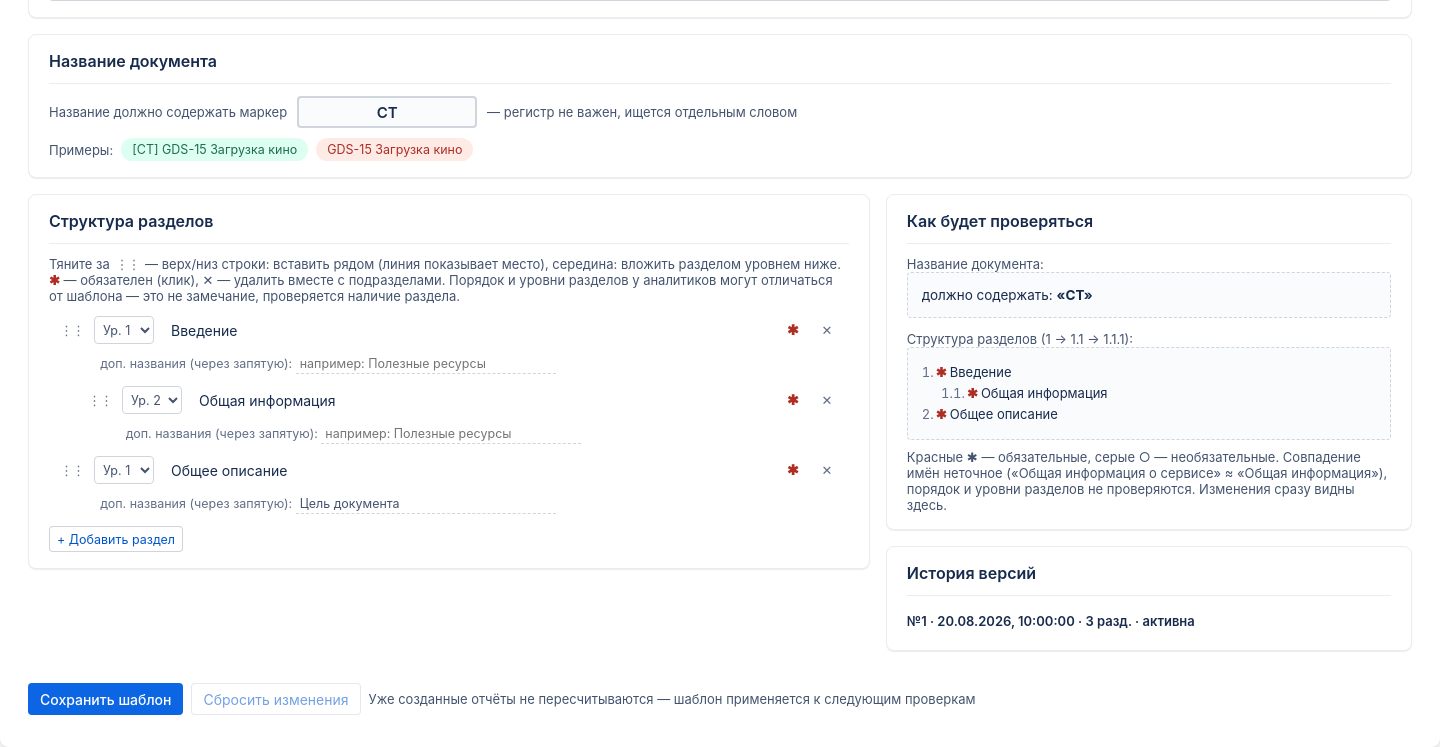
Test case: TemplatePage: редактирование › добавляет новый раздел в конец
(page scrolled)
Expected: the 2nd field showing "Введение" is shown, left=162, top=315, right=772, bottom=345
Click the button "+ Добавить раздел" at (116, 539), box left=49, top=526, right=183, bottom=552
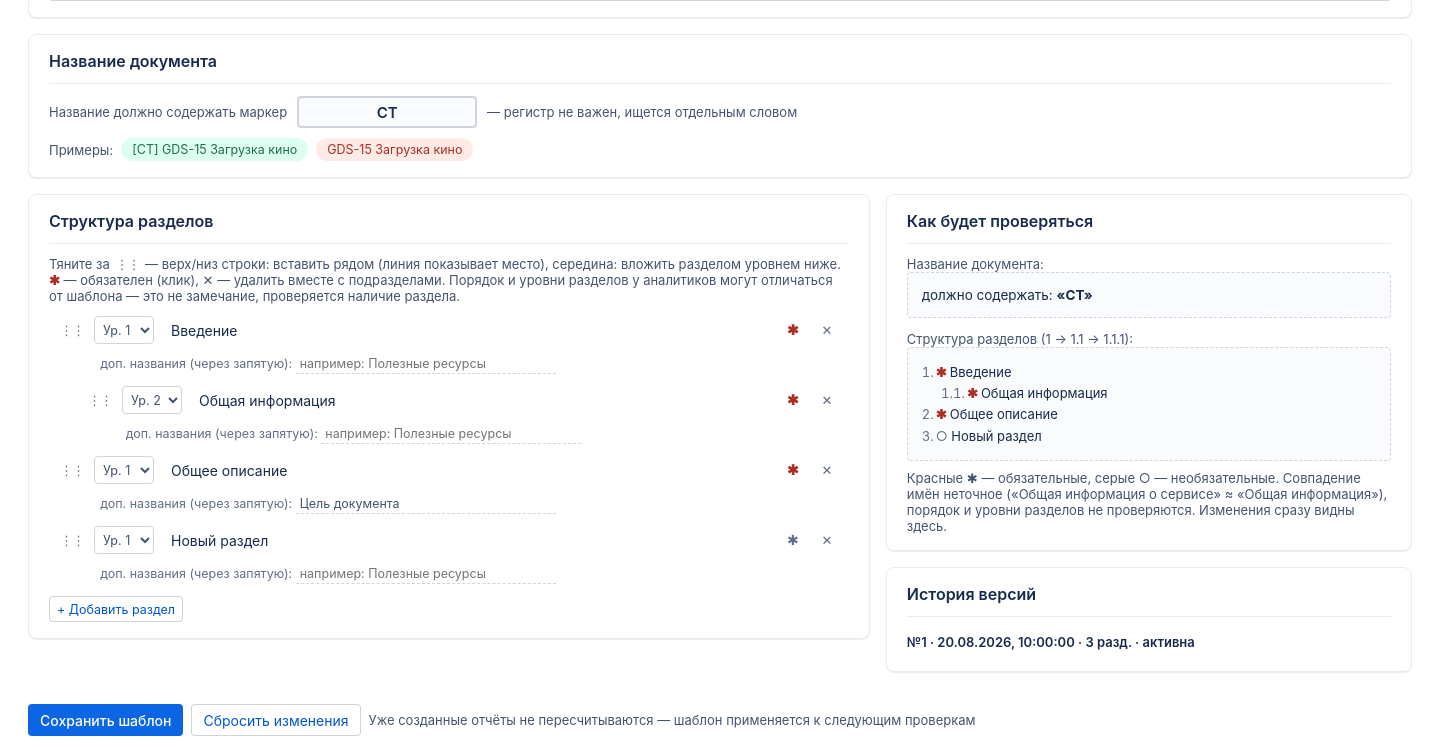
Expected: the 6th field with placeholder "Название раздела" holds "Новый раздел", left=162, top=525, right=772, bottom=555
